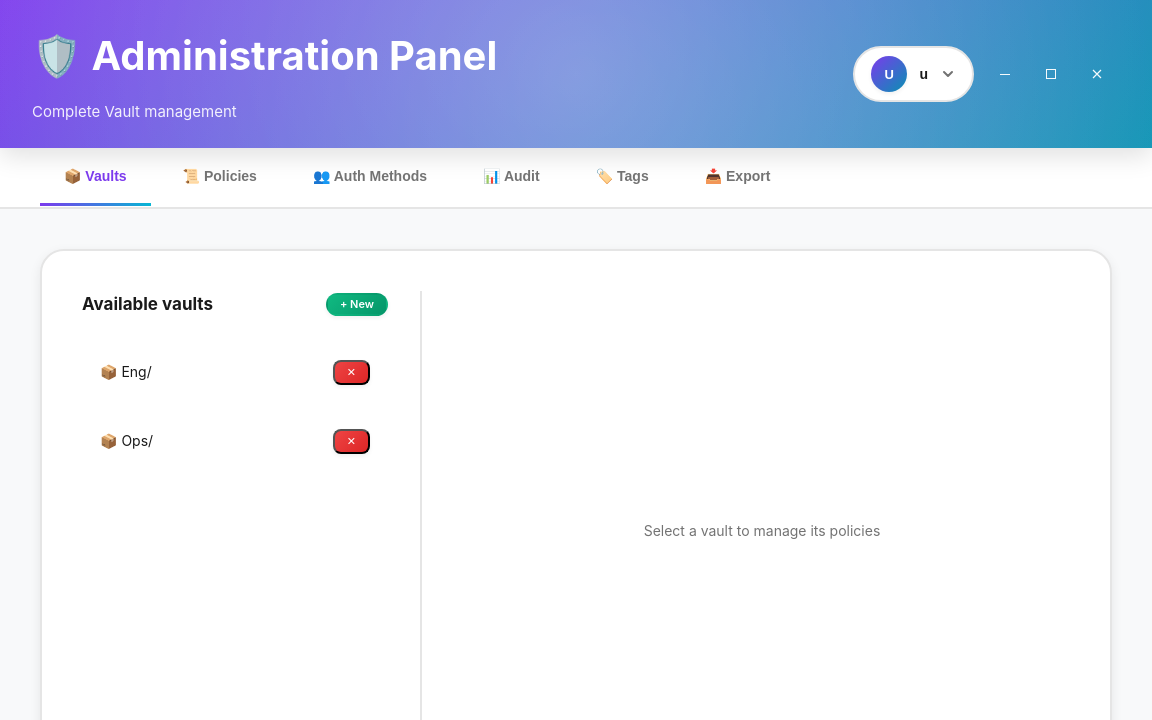
Test: UI-31 — listes utilisables au clavier › Policies : activation clavier = ouverture de l'éditeur ; « Supprimer » visible sans clic droit
Click the tab "📜 Policies".
click(220, 178)  # box [159,148,281,207]
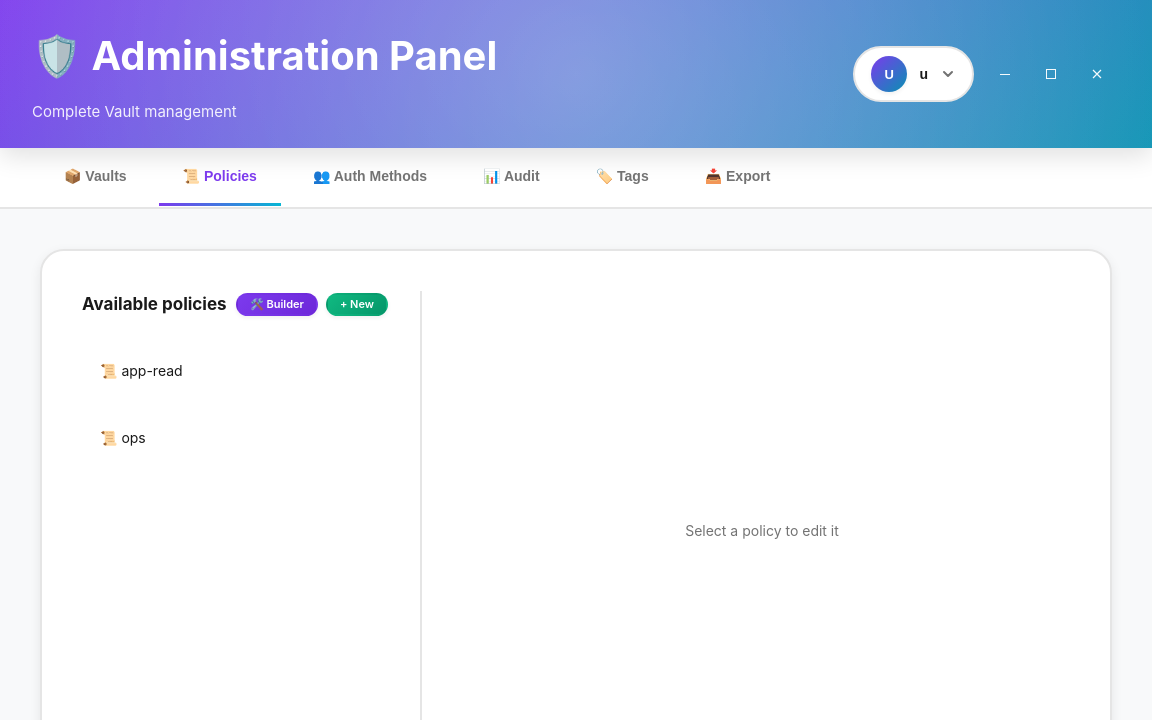
Click the button with class "admin-item-select" showing "📜 app-read".
click(152, 371)  # box [100,360,370,383]
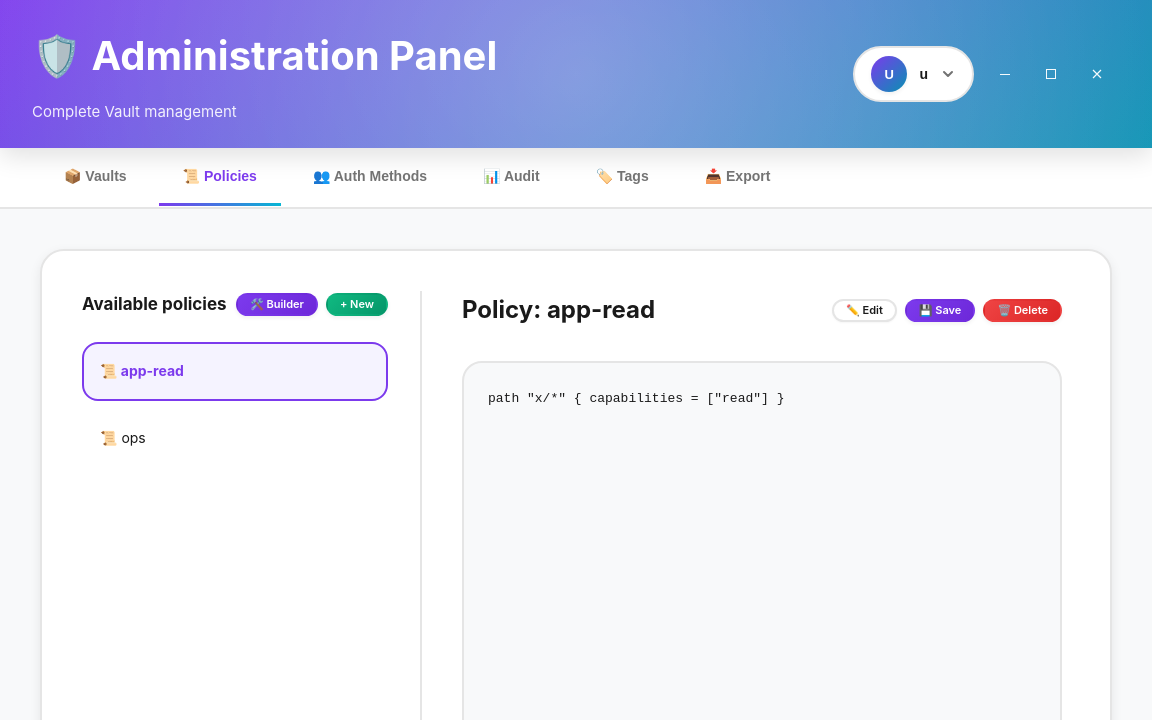
Result: the button "🗑️ Delete" is shown
Click the button "🗑️ Delete".
click(1023, 310)  # box [983,299,1062,322]
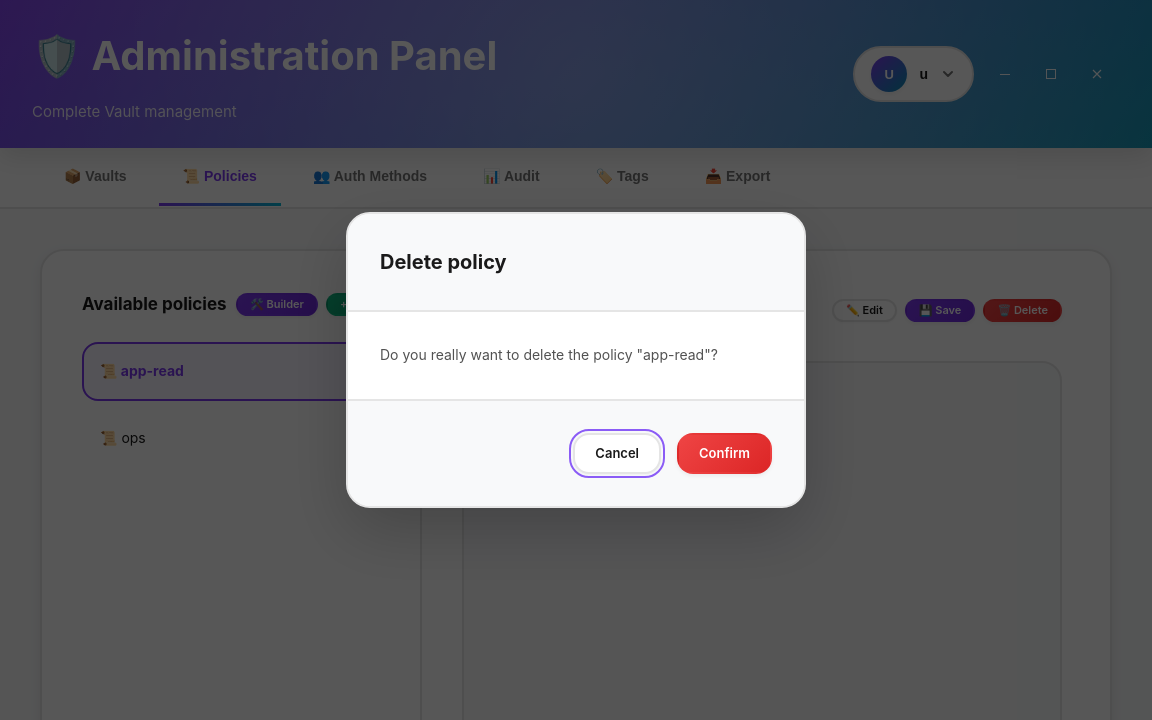
Result: the text "Delete policy" is shown at [380,246,507,278]
